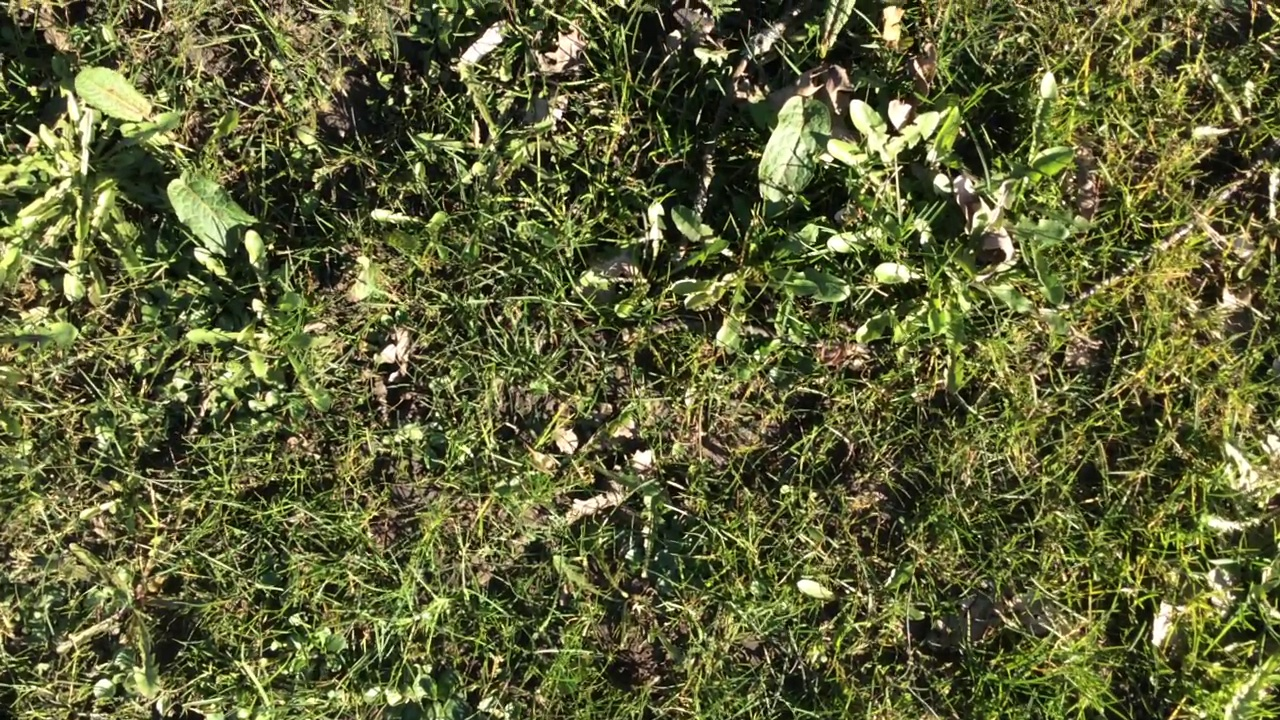rumex: (760, 96, 831, 209), (169, 172, 255, 258), (74, 68, 160, 125), (674, 207, 705, 241)
